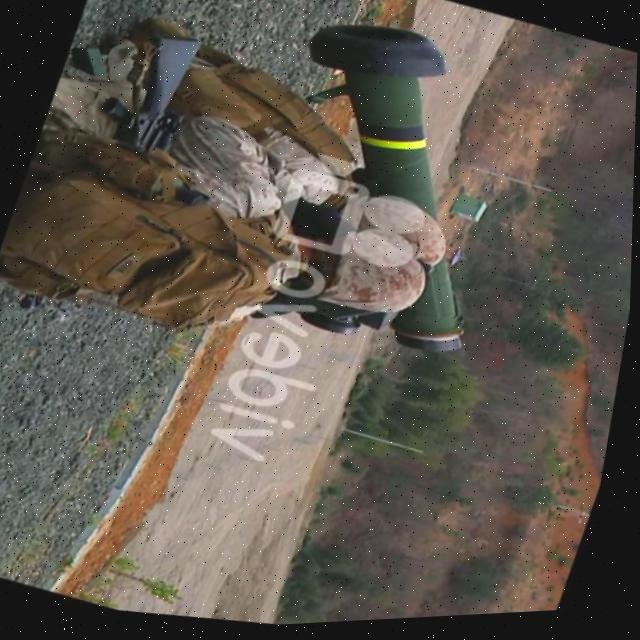rocket: (218, 1, 561, 380)
